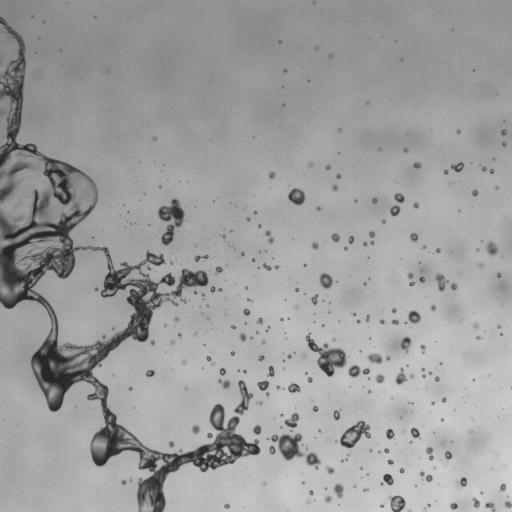droplet: (305, 333, 348, 376), (157, 198, 185, 245), (340, 420, 370, 449), (395, 368, 413, 385), (288, 188, 305, 205), (388, 495, 405, 511), (284, 412, 299, 429), (319, 273, 333, 289), (435, 273, 447, 291), (400, 336, 411, 352), (408, 310, 420, 323), (486, 241, 497, 255), (367, 353, 382, 363), (381, 473, 393, 485), (333, 483, 343, 497), (257, 380, 269, 391), (288, 382, 300, 393), (451, 162, 463, 172), (390, 205, 400, 216), (410, 427, 420, 438), (456, 477, 466, 488), (218, 379, 230, 388), (485, 502, 496, 511), (394, 193, 404, 202), (375, 374, 384, 383), (386, 429, 394, 439), (267, 366, 274, 377), (331, 233, 339, 242), (253, 425, 261, 434), (311, 294, 318, 304), (333, 410, 340, 420), (473, 497, 479, 508), (410, 233, 418, 241), (239, 333, 246, 342), (263, 263, 271, 270), (215, 266, 222, 274), (146, 370, 154, 377), (192, 425, 199, 433), (326, 466, 334, 473), (499, 483, 506, 491), (348, 235, 354, 244), (268, 171, 275, 178), (311, 242, 318, 249), (450, 283, 457, 290), (243, 308, 250, 315), (324, 495, 331, 502), (504, 501, 511, 508), (450, 502, 457, 509), (413, 162, 421, 168), (420, 344, 425, 353), (472, 189, 478, 196), (257, 317, 263, 324), (472, 323, 479, 329), (219, 368, 225, 375), (332, 185, 338, 191), (210, 286, 216, 292), (430, 304, 436, 310), (258, 355, 264, 361), (501, 129, 506, 135), (372, 197, 377, 203), (413, 202, 418, 208), (419, 277, 425, 282), (392, 319, 398, 324), (307, 376, 312, 382), (312, 406, 318, 411), (169, 441, 174, 447), (387, 459, 393, 464), (403, 147, 408, 152), (435, 248, 440, 253), (441, 397, 446, 402), (399, 468, 404, 473), (365, 315, 369, 321), (152, 136, 157, 140), (482, 166, 486, 171), (316, 206, 321, 210), (478, 263, 483, 267), (274, 265, 279, 269), (174, 317, 179, 321), (379, 319, 384, 323), (266, 326, 270, 331), (150, 340, 154, 345), (301, 353, 305, 358), (182, 359, 186, 364), (435, 376, 439, 381), (276, 385, 281, 389), (257, 401, 262, 405), (384, 448, 389, 452), (121, 480, 126, 484), (309, 490, 313, 495), (224, 504, 229, 508), (456, 129, 460, 133), (502, 142, 506, 146), (308, 163, 312, 167), (326, 165, 330, 169), (336, 174, 340, 178), (246, 217, 250, 221), (422, 245, 426, 249), (497, 273, 501, 277), (392, 308, 396, 312), (356, 319, 360, 323), (231, 325, 235, 329), (178, 333, 182, 337), (261, 340, 265, 344), (230, 351, 234, 355), (287, 354, 291, 358), (386, 356, 390, 360), (128, 386, 132, 390), (363, 488, 368, 491), (490, 169, 493, 173), (444, 170, 447, 174), (495, 186, 498, 190), (221, 235, 225, 238), (363, 242, 367, 245), (240, 252, 244, 255), (218, 288, 222, 291), (247, 298, 251, 301), (295, 304, 298, 308), (352, 312, 356, 315), (477, 336, 481, 339), (263, 481, 266, 485), (427, 503, 430, 507), (278, 40, 281, 43), (329, 54, 332, 57), (283, 69, 286, 72), (253, 211, 256, 214), (382, 220, 385, 223), (94, 287, 97, 290), (295, 288, 298, 291), (421, 368, 424, 371), (429, 371, 432, 374), (431, 401, 434, 404), (380, 504, 383, 507), (282, 103, 284, 106), (339, 128, 341, 131), (258, 225, 261, 227), (344, 247, 347, 249), (252, 258, 254, 261), (170, 262, 173, 264), (280, 318, 283, 320), (171, 341, 174, 343), (439, 362, 442, 364), (243, 370, 246, 372), (422, 375, 425, 377), (266, 393, 268, 396), (441, 418, 443, 421), (402, 430, 405, 432), (129, 479, 132, 481), (302, 481, 304, 484), (324, 487, 327, 489), (424, 508, 426, 511), (378, 148, 380, 150), (250, 336, 252, 338), (318, 430, 320, 432), (306, 447, 308, 449), (370, 449, 372, 451), (307, 500, 309, 502)
ligament: (0, 17, 260, 511), (268, 433, 321, 469), (348, 365, 369, 377), (442, 451, 451, 465), (420, 471, 432, 481), (265, 230, 273, 243), (407, 272, 415, 285), (194, 254, 208, 261), (426, 446, 433, 460), (369, 230, 375, 245), (206, 355, 214, 365), (342, 453, 349, 461), (0, 57, 2, 66), (407, 510, 411, 511)
